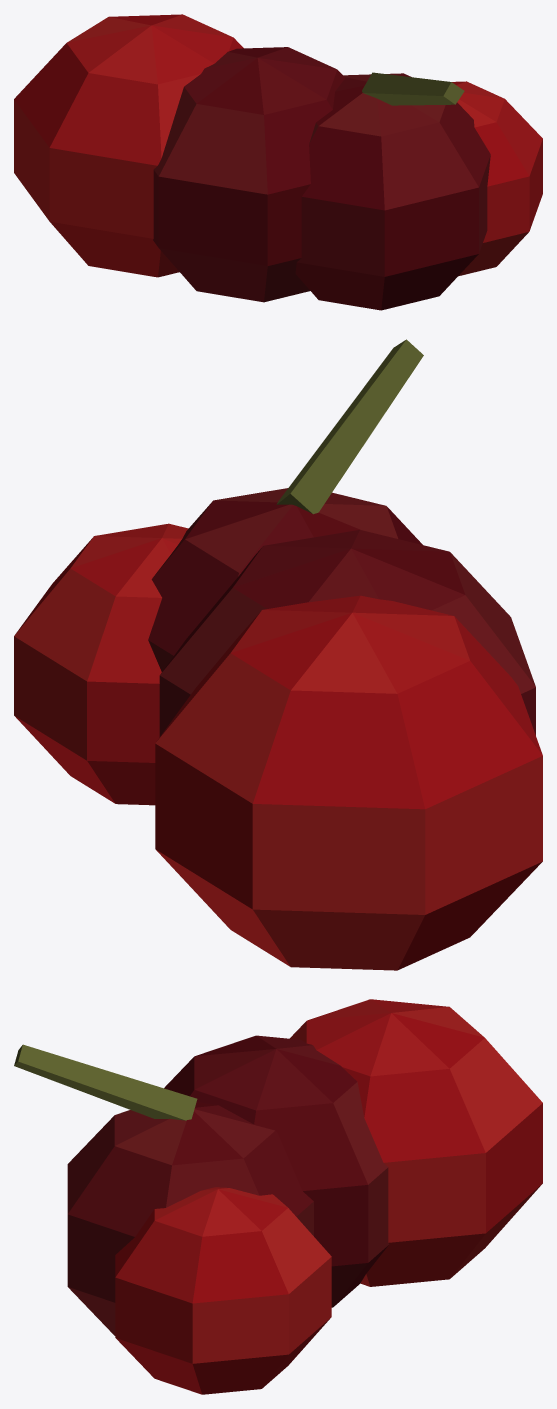
File: fruit_ground_fruits_a.glb
The picture shows the model from 3 angles, top to bottom: view 1: azimuth 30°, elevation 25°; view 2: azimuth 150°, elevation 25°; view 3: azimuth 270°, elevation 25°; orthographic projection. The views are drawn at different scales.
Parts seen in each view (by area): view 1: fruit_ground_fruits_a; view 2: fruit_ground_fruits_a; view 3: fruit_ground_fruits_a.
Part boxes in pixels (left/top/right/bottom): fruit_ground_fruits_a: left=14, top=14, right=542, bottom=310; fruit_ground_fruits_a: left=14, top=339, right=542, bottom=970; fruit_ground_fruits_a: left=14, top=999, right=542, bottom=1394.
Size of the model in its own units: 0.4881 by 0.3054 by 0.4905.
